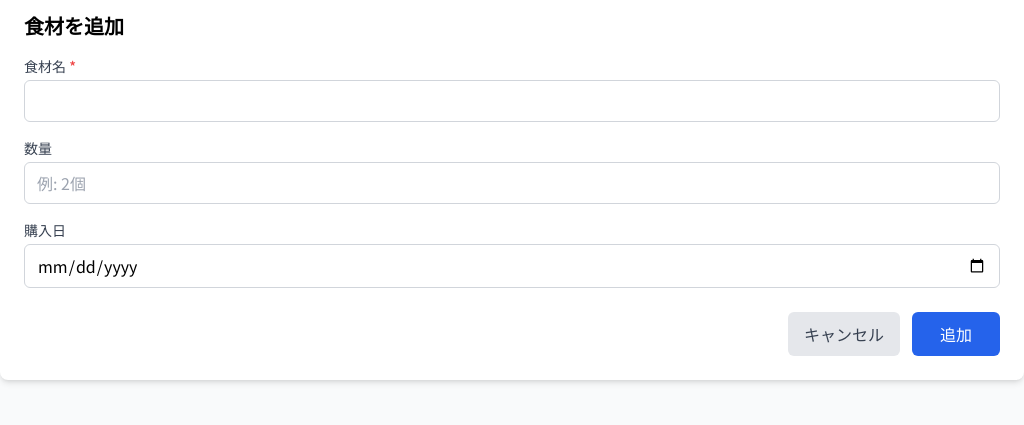
Scenario: IngredientForm › validation › should clear error when user starts typing
This screenshot has width=1024, height=425.
# Trigger validation error
Click the button "追加" at (956, 334), box [912,312,1000,356]
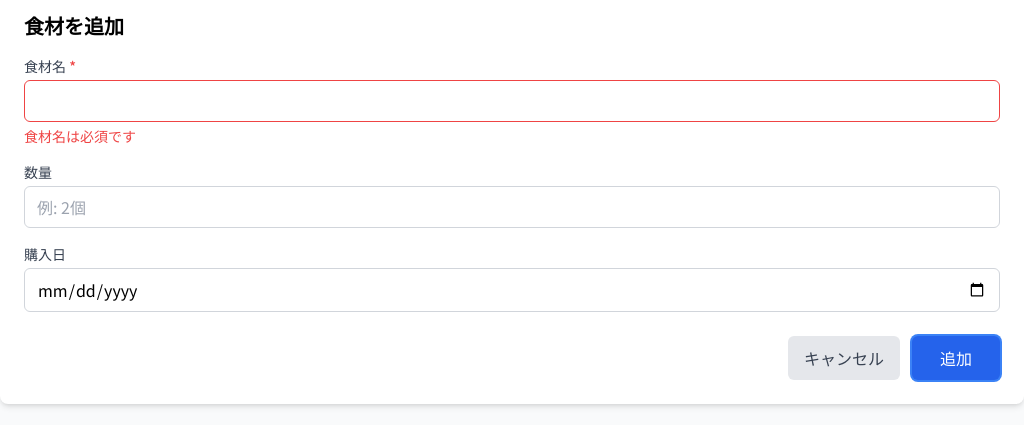
Expected: the text "食材名は必須です" is shown, [24,126,136,146]
# Start typing
Type "に" into the field labelled "食材名 *" at (512, 101), box [24,80,1000,122]
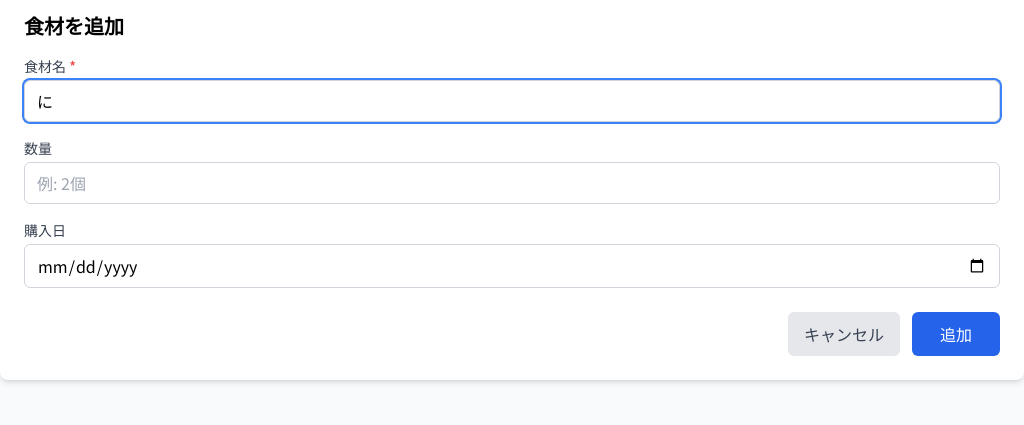
Expected: the text "食材名は必須です" is gone
